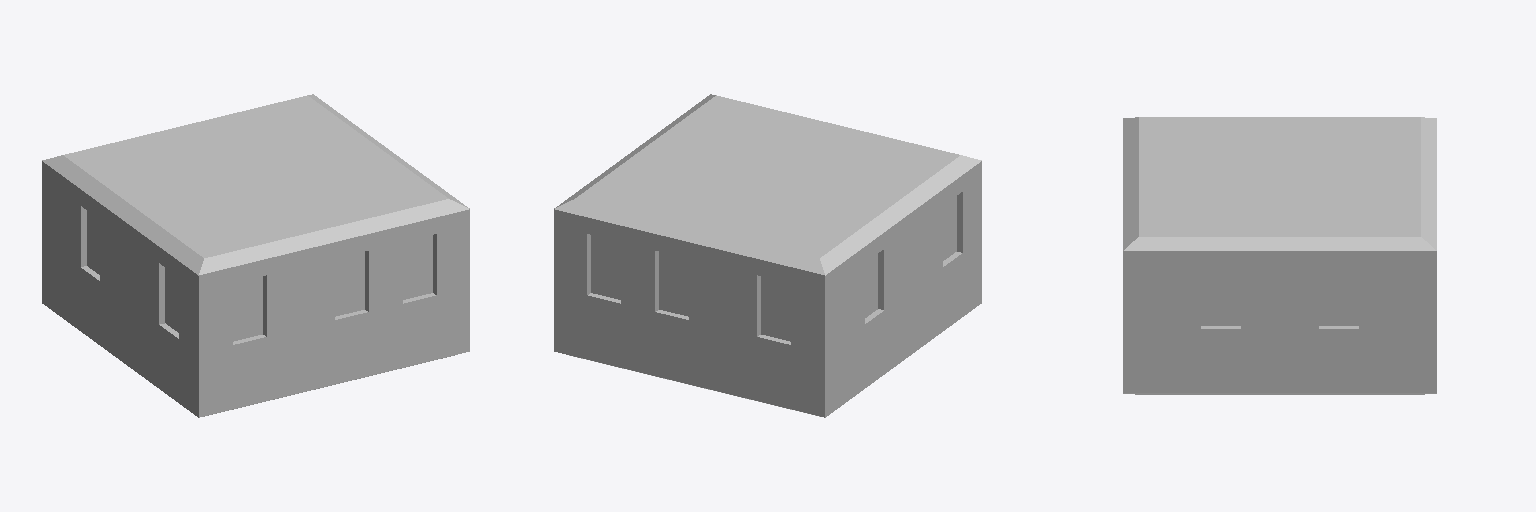
The model's file is Building1.obj.
The picture shows the model from 3 angles: view 1: azimuth 30°, elevation 25°; view 2: azimuth 150°, elevation 25°; view 3: azimuth 270°, elevation 25°; orthographic projection.
Visible parts, largest first — view 1: Cube_Cube.001; view 2: Cube_Cube.001; view 3: Cube_Cube.001.
Part boxes in pixels (x1,y1,x2,y2): Cube_Cube.001: (42, 94, 469, 417); Cube_Cube.001: (554, 94, 981, 417); Cube_Cube.001: (1123, 117, 1436, 394).
Bounding box in the file's own units: 9 × 5 × 9.